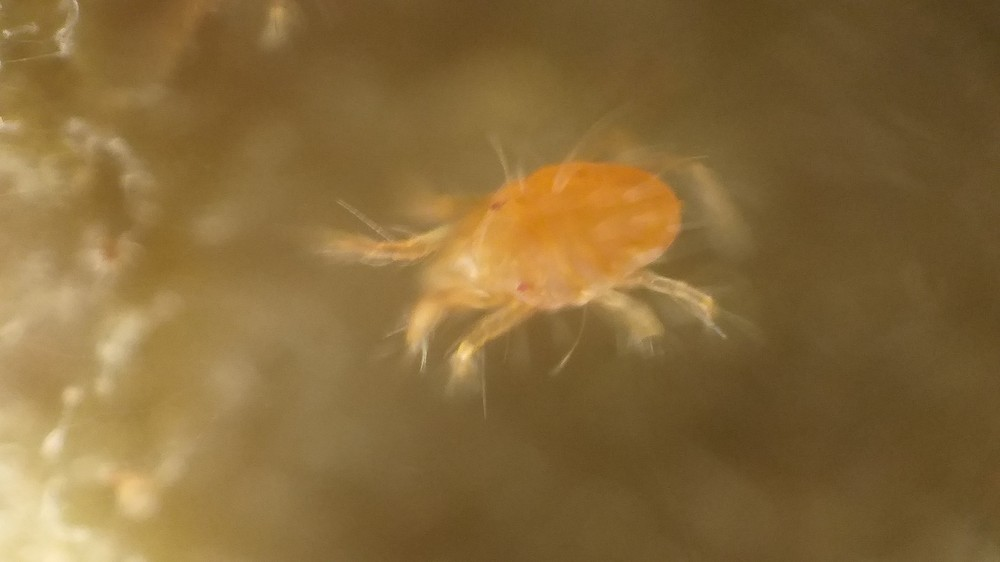Aracnido Rojo: (334, 113, 778, 423)
